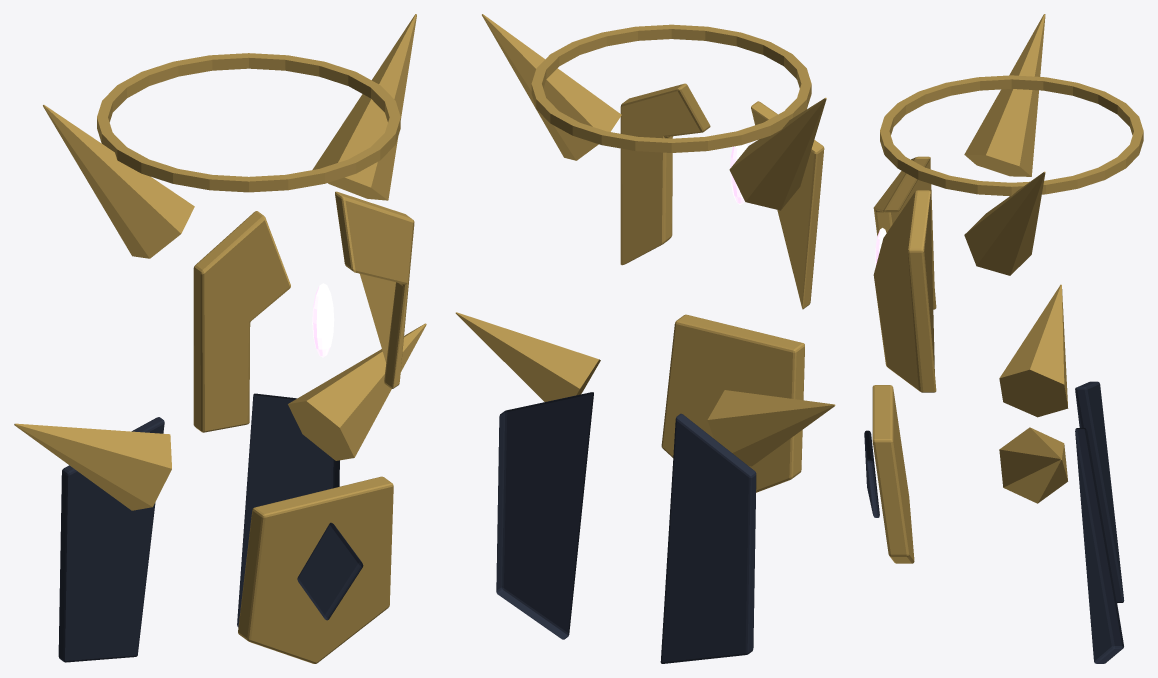
The model's file is hollow-regent-v1.glb.
3 views of the same model, side by side, from view 1: azimuth 30°, elevation 25°; view 2: azimuth 150°, elevation 25°; view 3: azimuth 270°, elevation 25° (orthographic). The views are drawn at different scales.
Visible parts, largest first — view 1: Crown breastplate, Royal mantle, Sun mask, Orbit diadem, Sun mask.001, Solar horn, Royal mantle.001, Shoulder ray, Shoulder ray.001, Solar horn.001, Void heart, Eclipse eye; view 2: Royal mantle, Royal mantle.001, Crown breastplate, Orbit diadem, Sun mask.001, Shoulder ray, Solar horn, Shoulder ray.001, Solar horn.001, Sun mask; view 3: Sun mask.001, Orbit diadem, Solar horn, Shoulder ray, Royal mantle.001, Crown breastplate, Solar horn.001, Shoulder ray.001, Royal mantle, Sun mask, Void heart.
Boxes of the visible parts, left/top/right/bottom form: Crown breastplate: left=238, top=476, right=393, bottom=663; Royal mantle: left=58, top=417, right=164, bottom=662; Sun mask: left=193, top=211, right=290, bottom=432; Orbit diadem: left=97, top=53, right=400, bottom=192; Sun mask.001: left=335, top=191, right=414, bottom=388; Solar horn: left=43, top=105, right=194, bottom=258; Royal mantle.001: left=237, top=393, right=339, bottom=627; Shoulder ray: left=14, top=423, right=171, bottom=510; Shoulder ray.001: left=288, top=323, right=426, bottom=460; Solar horn.001: left=312, top=14, right=416, bottom=200; Void heart: left=297, top=522, right=363, bottom=620; Eclipse eye: left=312, top=283, right=334, bottom=357; Royal mantle: left=660, top=413, right=756, bottom=663; Royal mantle.001: left=496, top=392, right=593, bottom=639; Crown breastplate: left=661, top=314, right=804, bottom=492; Orbit diadem: left=531, top=24, right=811, bottom=152; Sun mask.001: left=620, top=83, right=710, bottom=265; Shoulder ray: left=707, top=390, right=835, bottom=466; Solar horn: left=729, top=97, right=826, bottom=210; Shoulder ray.001: left=455, top=312, right=600, bottom=401; Solar horn.001: left=482, top=14, right=621, bottom=160; Sun mask: left=751, top=101, right=824, bottom=309; Sun mask.001: left=873, top=190, right=936, bottom=392; Orbit diadem: left=880, top=75, right=1143, bottom=196; Solar horn: left=964, top=14, right=1045, bottom=176; Shoulder ray: left=999, top=284, right=1068, bottom=417; Royal mantle.001: left=1075, top=428, right=1123, bottom=663; Crown breastplate: left=872, top=385, right=914, bottom=563; Solar horn.001: left=964, top=171, right=1045, bottom=275; Shoulder ray.001: left=999, top=427, right=1067, bottom=503; Royal mantle: left=1075, top=381, right=1124, bottom=602; Sun mask: left=873, top=156, right=936, bottom=309; Void heart: left=864, top=430, right=879, bottom=517.
Size of the model in its own units: 1.5 by 2.14 by 1.02.
